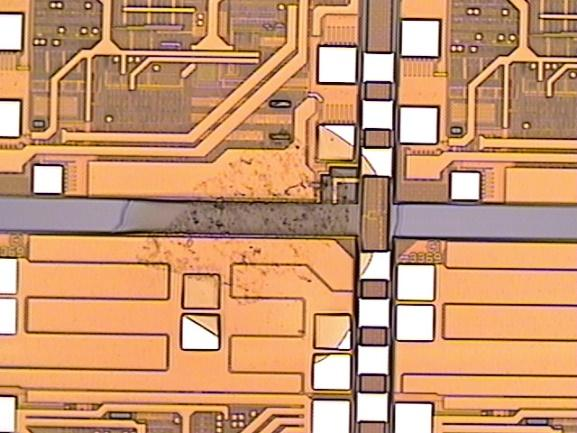BLOCK ETCH: (106, 115, 410, 369)
